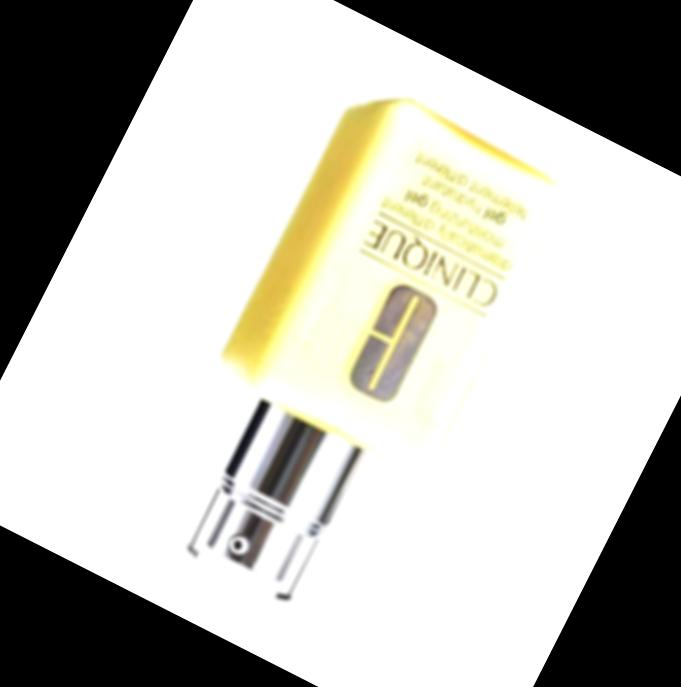cosmetic: (129, 78, 574, 641)
